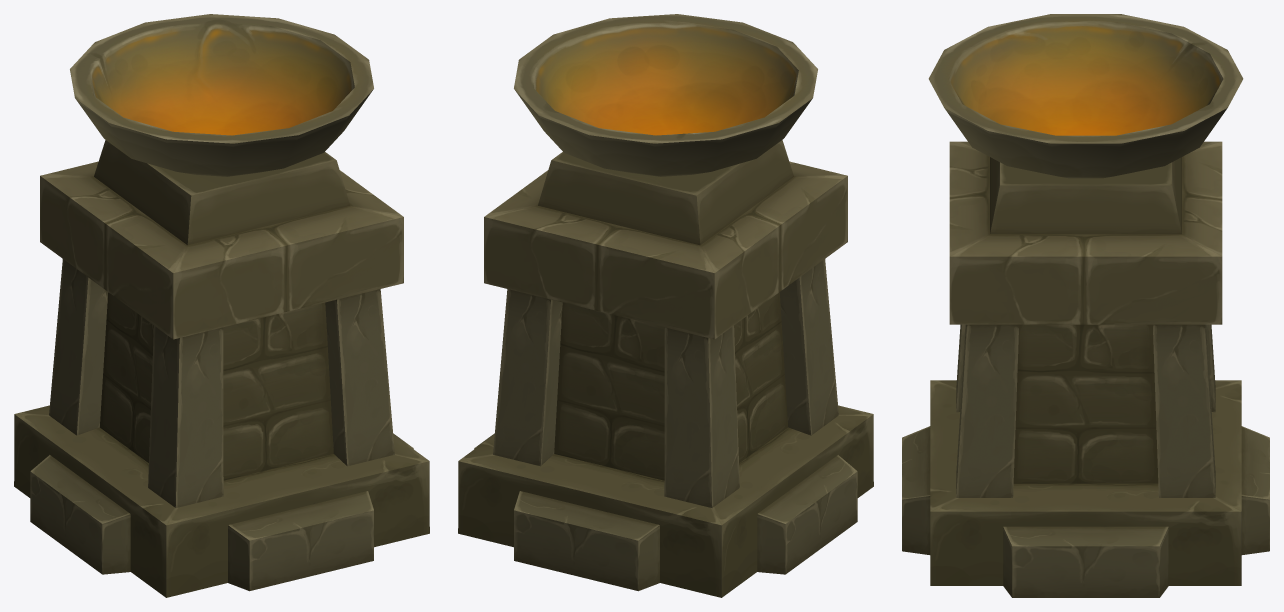
Rendered from Altar.FBX.
The picture shows the model from 3 angles, left to right: view 1: azimuth 30°, elevation 25°; view 2: azimuth 150°, elevation 25°; view 3: azimuth 270°, elevation 25°; orthographic projection. The views are drawn at different scales.
Visible parts, largest first — view 1: Altar; view 2: Altar; view 3: Altar.
Boxes of the visible parts, box(x1,y1,x2,y2) form: Altar: box(14, 14, 429, 597); Altar: box(458, 14, 873, 597); Altar: box(902, 14, 1269, 597).
Size of what is drawn, in the model's own units: 201 by 201 by 266.
